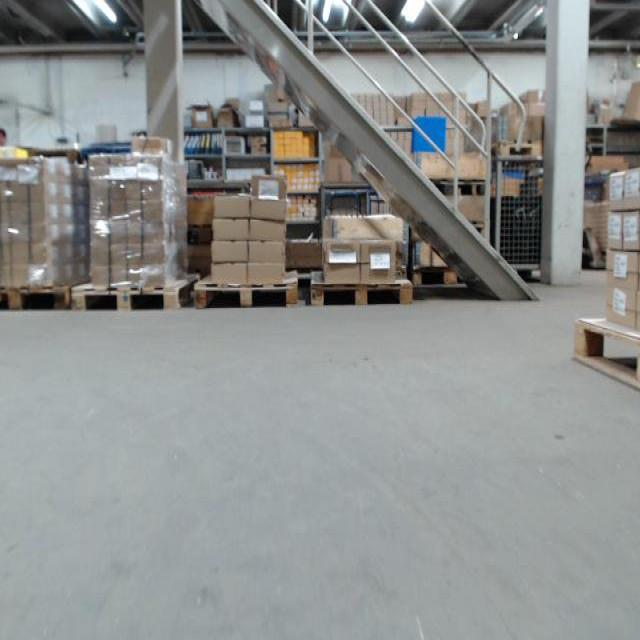pallet: (575, 315, 640, 394), (71, 272, 199, 311), (196, 267, 299, 306), (307, 269, 412, 303), (0, 284, 70, 312), (409, 266, 465, 285)
stillage: (489, 155, 554, 274)
